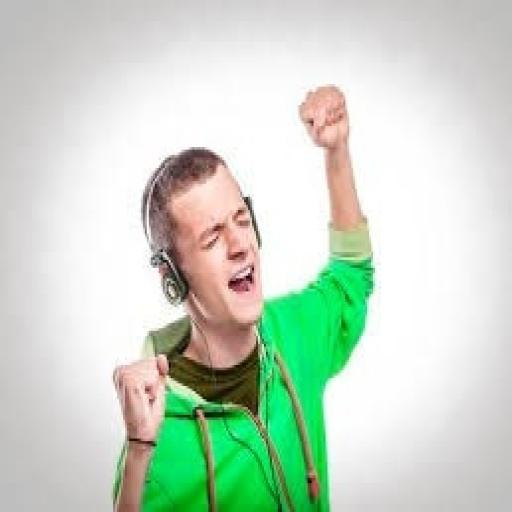listening_to_music: (107, 82, 379, 510)
